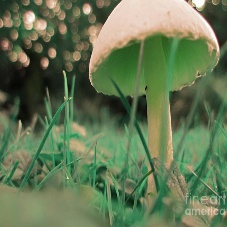mushroom: (87, 1, 221, 201)
